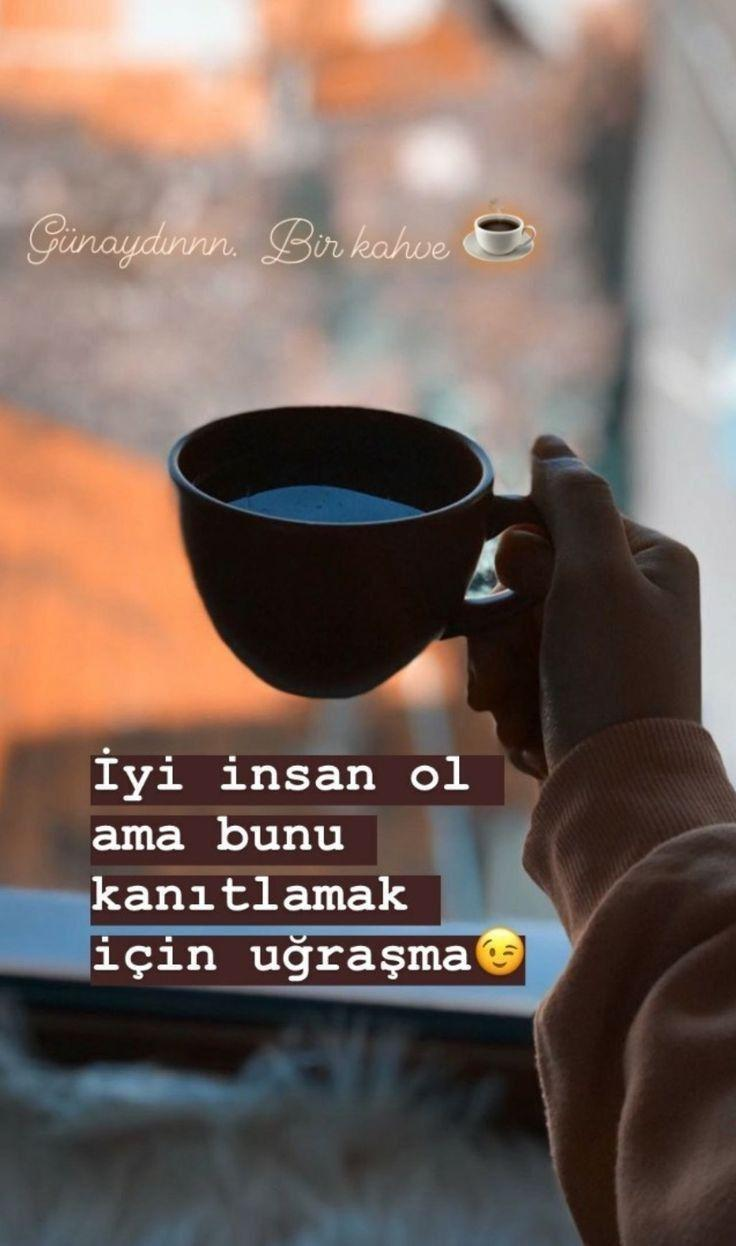cup-handle: (163, 400, 566, 703)
